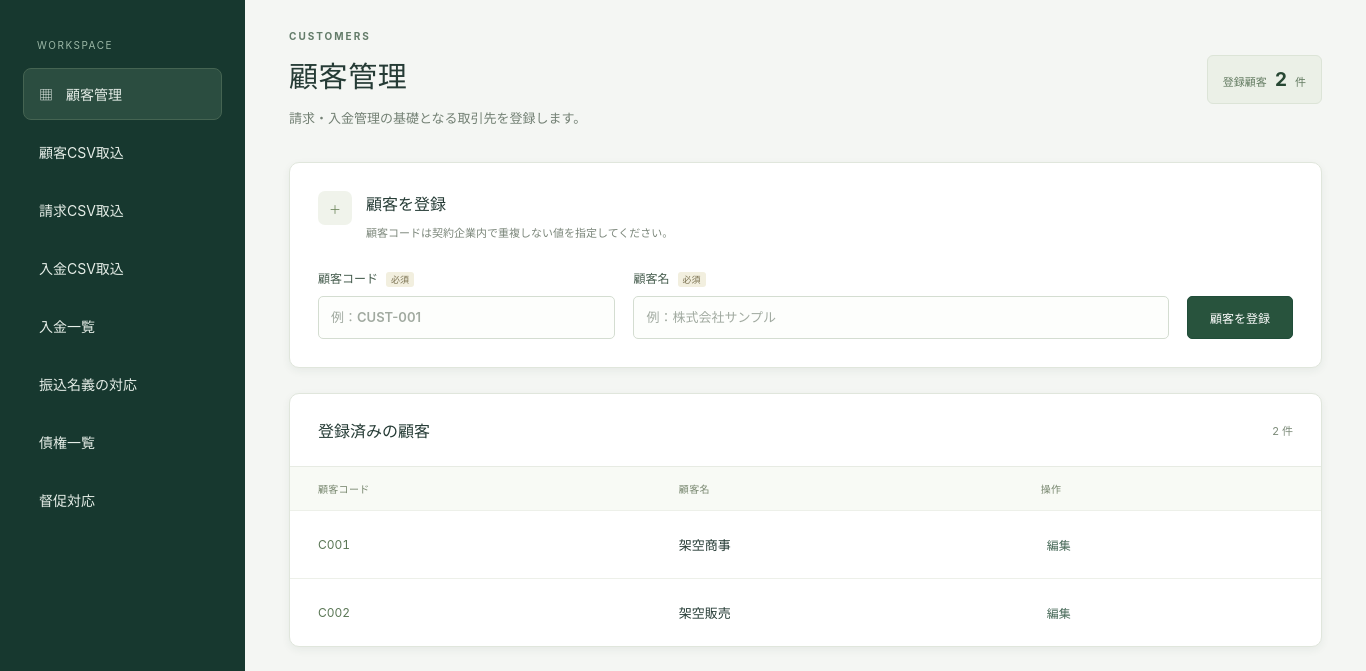
Test: Manual payer aliases › keeps the exact server cursor and replaces the current list page
Click the button "振込名義の対応": x=122, y=384 [23,358,222,410]
(page scrolled)
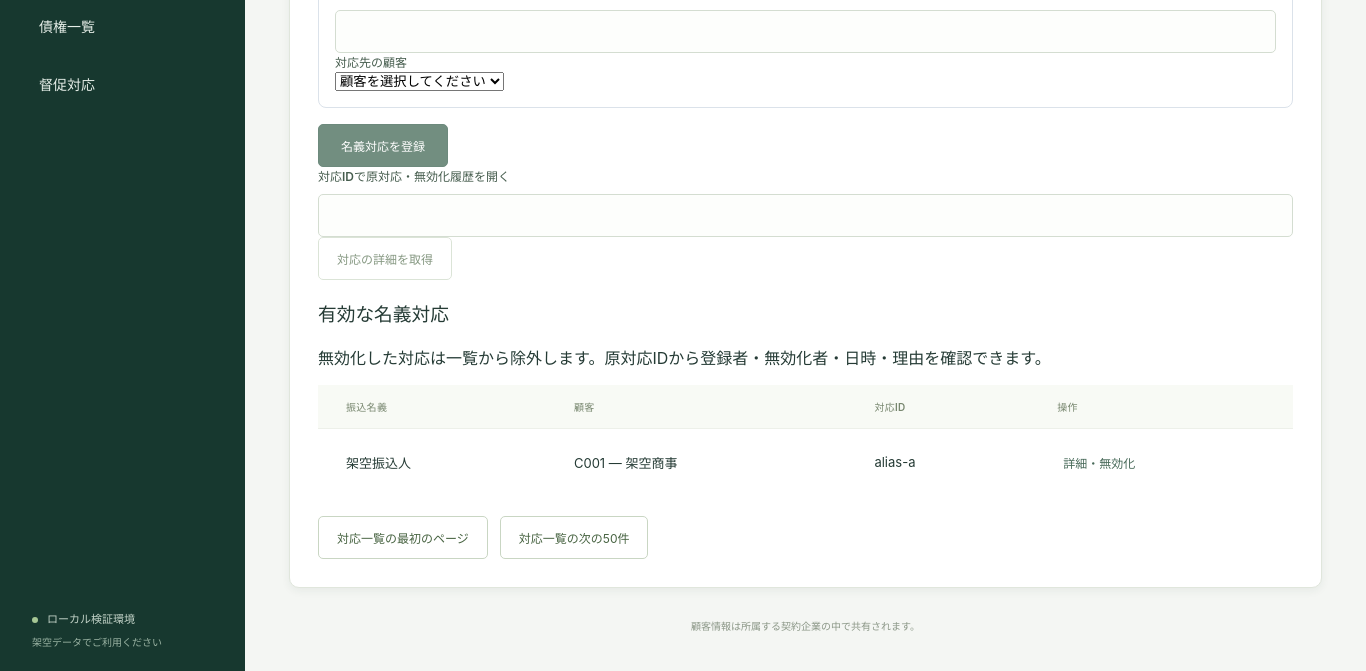
Check: the table named "有効な名義対応一覧" is shown, box [318,384,1293,496]
Click the button "対応一覧の次の50件": x=574, y=537 [500,516,648,558]
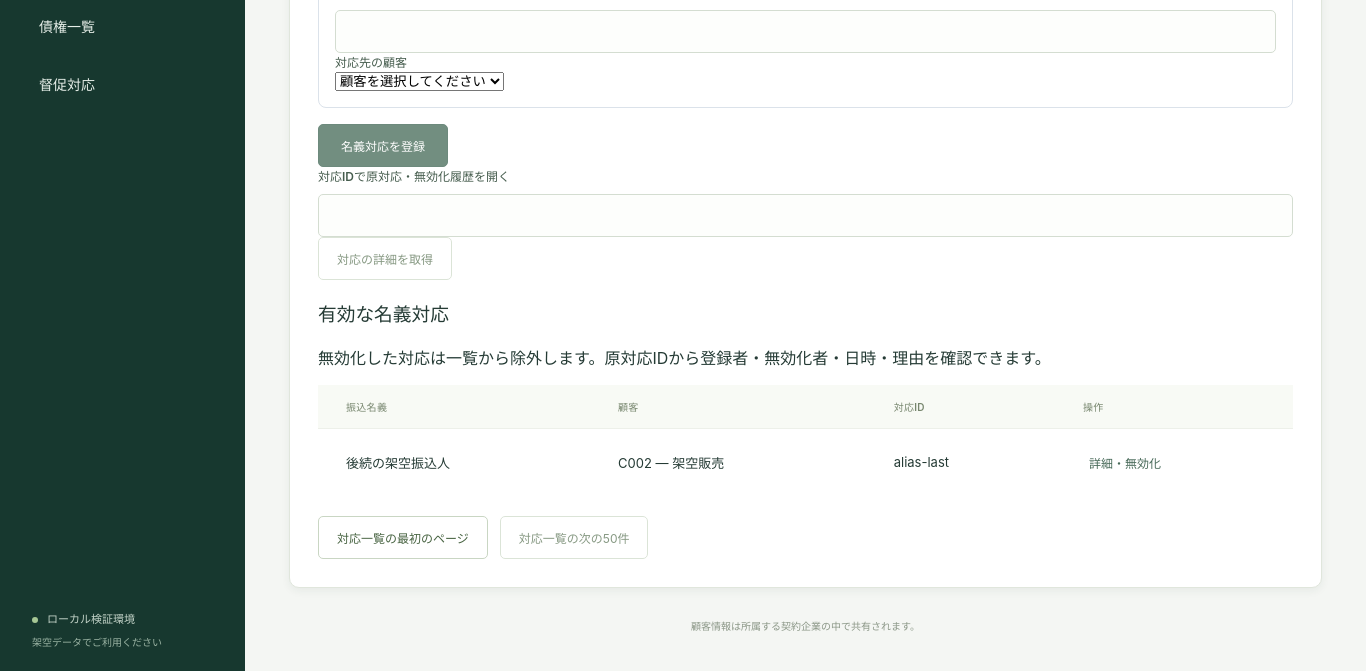
Check: the table named "有効な名義対応一覧" shows "後続の架空振込人", box [346,454,450,470]
